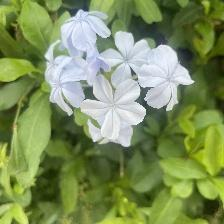chitrak: (85, 76, 147, 136), (140, 45, 193, 110), (43, 44, 87, 108), (99, 31, 153, 83), (60, 6, 112, 50)
